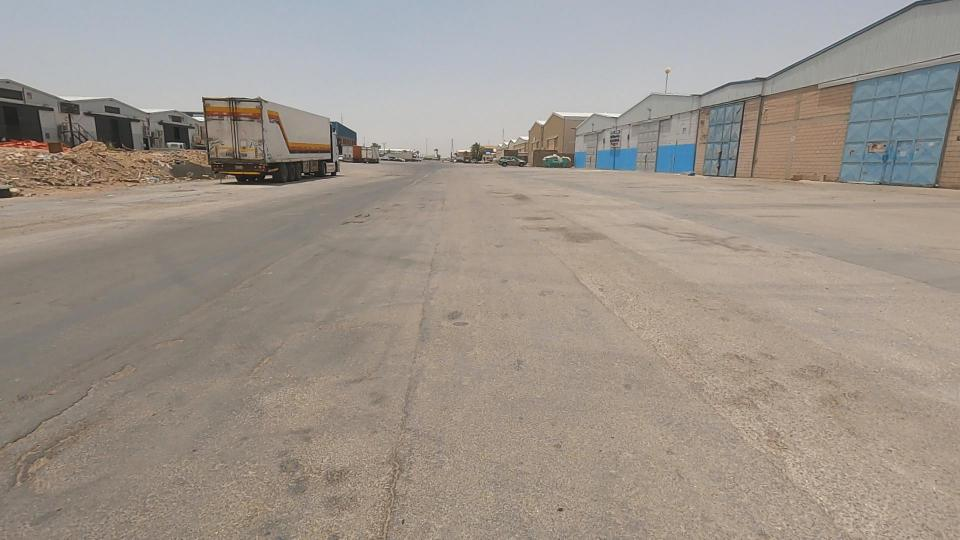POTHOLES: (0, 325, 160, 540), (488, 188, 593, 267), (302, 186, 415, 258)
